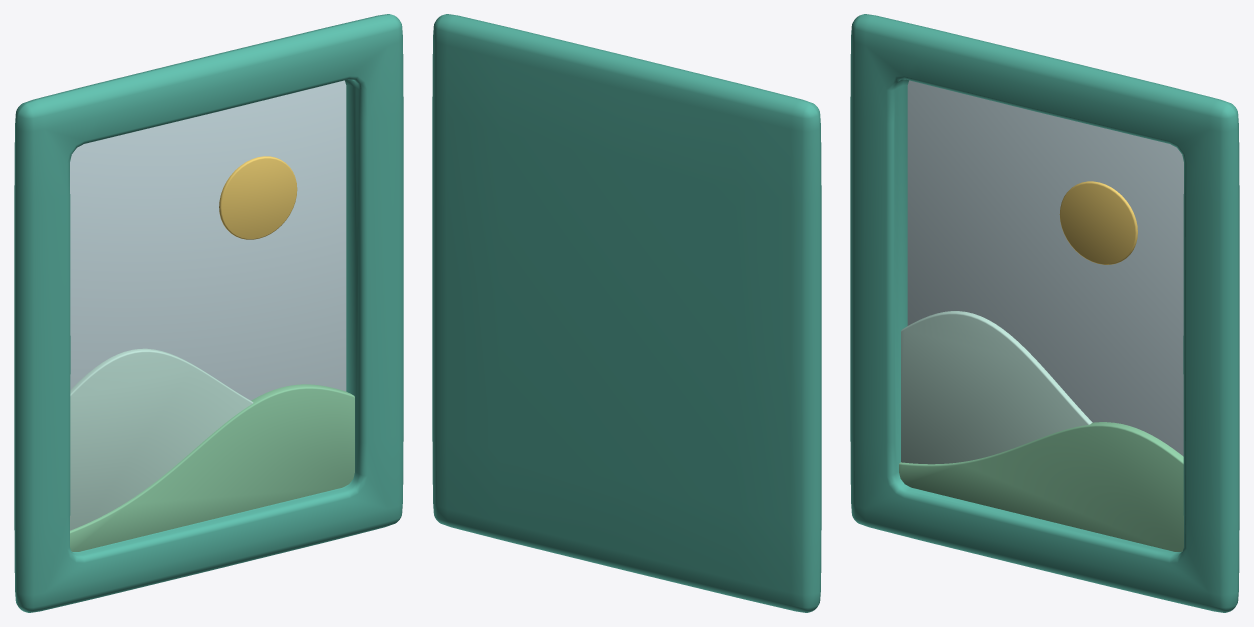
File: poster_a.glb
3 views of the same model, side by side, from view 1: azimuth 30°, elevation 25°; view 2: azimuth 150°, elevation 25°; view 3: azimuth 330°, elevation 25° (orthographic).
Parts seen in each view (by area): view 1: body; view 2: body; view 3: body.
Boxes of the visible parts, left/top/right/bottom form: body: left=14, top=14, right=403, bottom=612; body: left=432, top=14, right=821, bottom=612; body: left=850, top=14, right=1239, bottom=612.
Bounding box in the file's own units: 0.6 × 0.76 × 0.0513.
